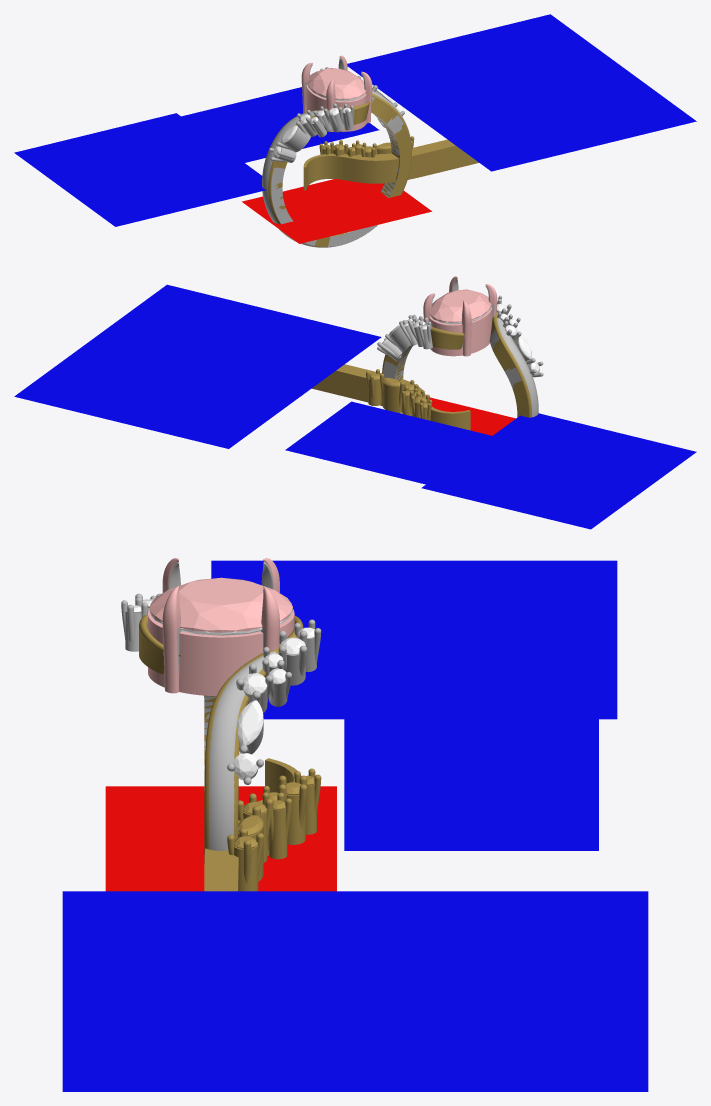
The picture shows the model from 3 angles, top to bottom: view 1: azimuth 30°, elevation 25°; view 2: azimuth 150°, elevation 25°; view 3: azimuth 270°, elevation 25°; orthographic projection. The views are drawn at different scales.
Visible parts, largest first — view 1: LR-0013dm, Diamond_Oval_1; view 2: LR-0013dm, Diamond_Oval_1; view 3: LR-0013dm, Diamond_Oval_1, Diamond_Marquise_1.
Part boxes in pixels (x1,y1,x2,y2): LR-0013dm: (14,14,696,247); Diamond_Oval_1: (307,68,365,99); LR-0013dm: (14,276,696,529); Diamond_Oval_1: (430,289,491,322); LR-0013dm: (62,558,648,1091); Diamond_Oval_1: (149,577,292,632); Diamond_Marquise_1: (237,700,263,745).
Bounding box in the file's own units: 9.09 × 2.83 × 4.24.
